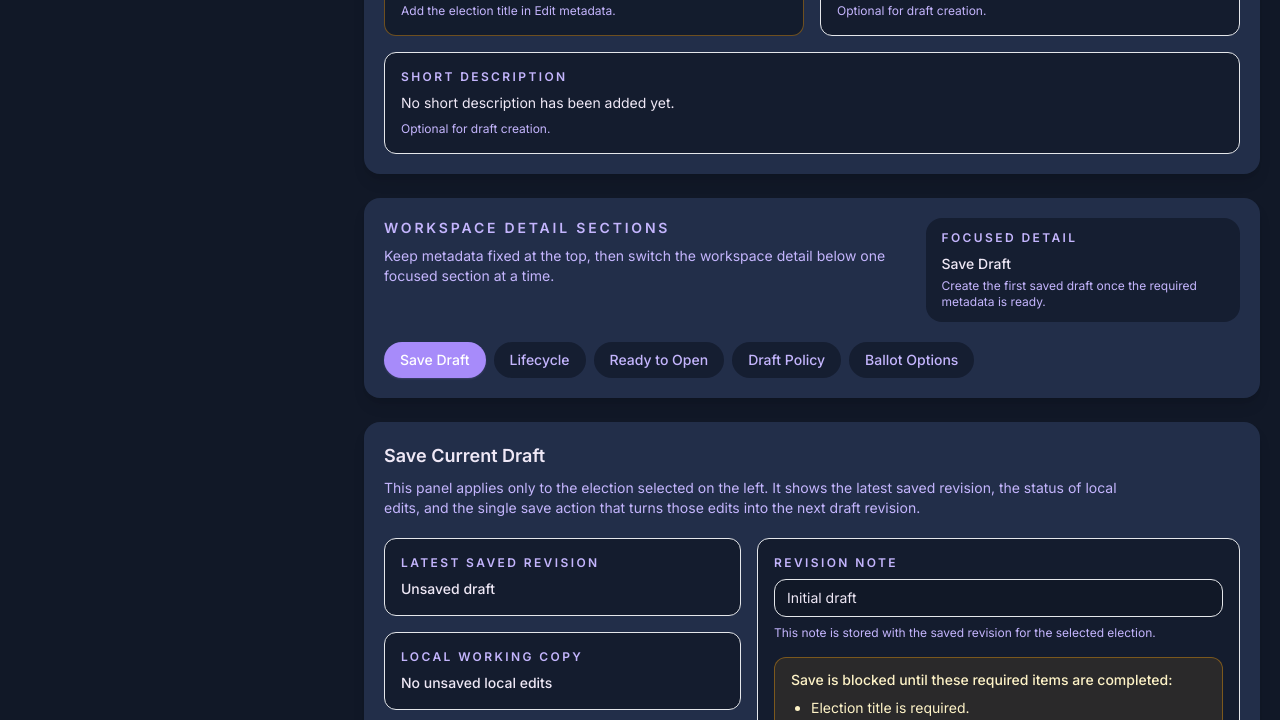
Test: ElectionsWorkspace › starts a new draft without pre-seeded ballot options
(page scrolled)
Click the button with test id "elections-detail-tab-options". click: (912, 360)
box: [849,342,974,378]
(page scrolled)
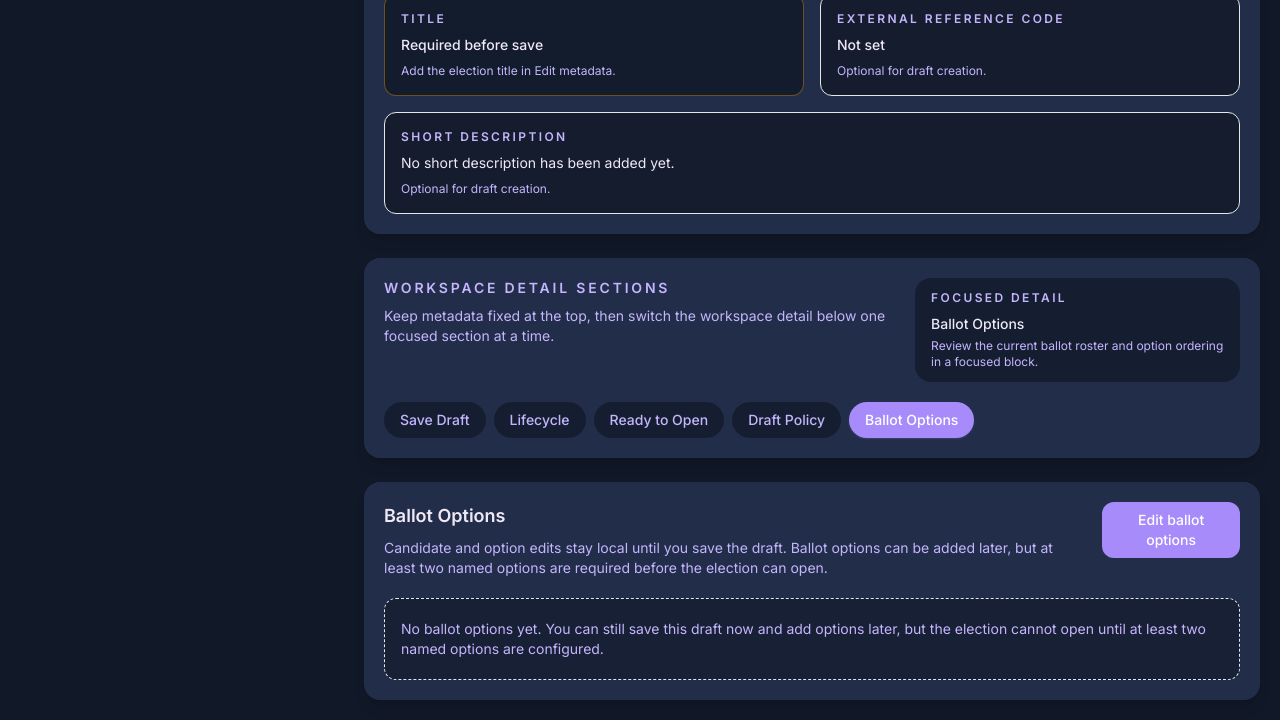
Check: the text with test id "elections-empty-options" is shown, box [384,598,1240,680]
